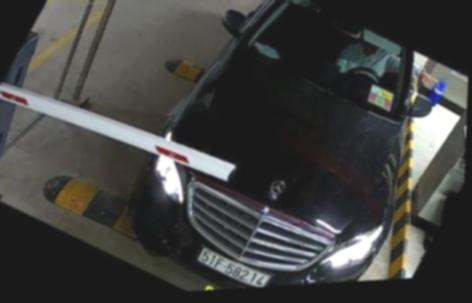License_Plate: (196, 239, 279, 289)
